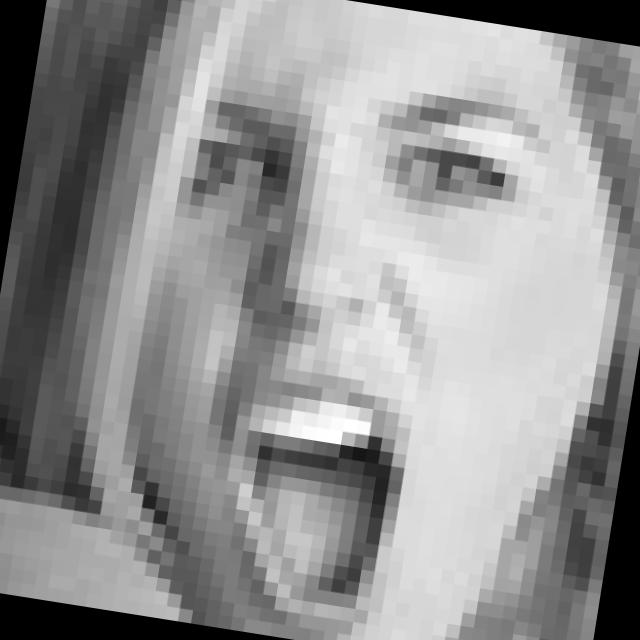angry: (121, 47, 562, 640)
